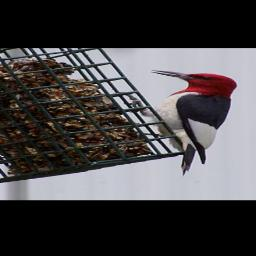Woodpecker: (126, 70, 238, 176)
